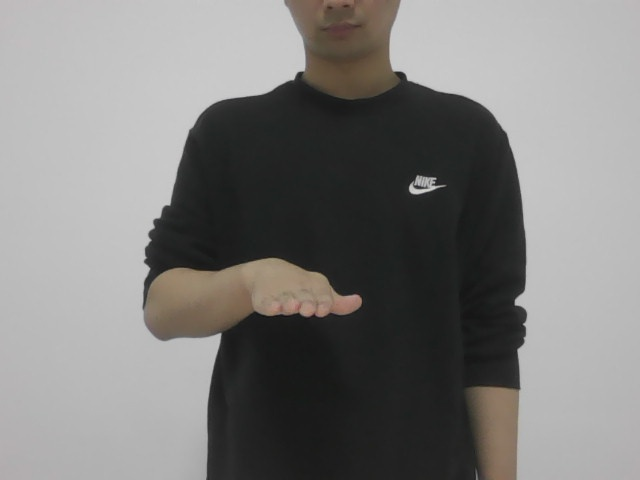slow: (241, 250, 381, 332)
